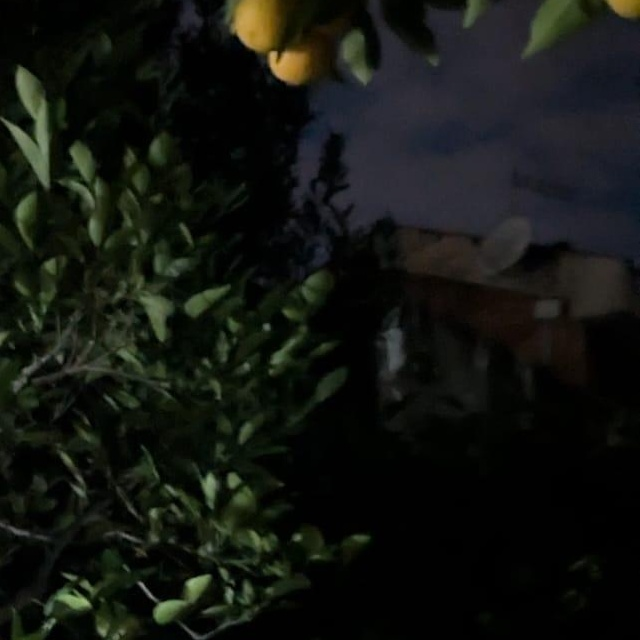orange: (264, 8, 338, 94), (231, 0, 287, 54), (597, 0, 639, 22)
